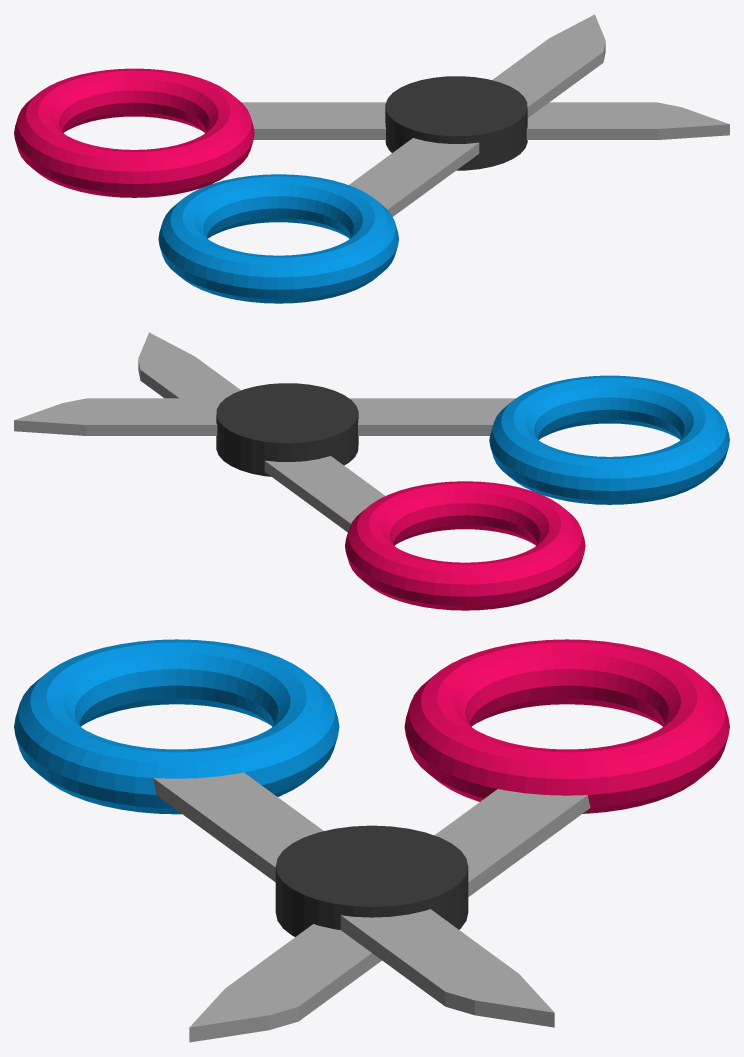
The model's file is scissors.fbx.
3 renders of one model, top to bottom at view 1: azimuth 30°, elevation 25°; view 2: azimuth 150°, elevation 25°; view 3: azimuth 270°, elevation 25°, orthographic. The views are drawn at different scales.
Parts seen in each view (by area): view 1: scissors; view 2: scissors; view 3: scissors.
Part boxes in pixels (<box>): scissors: <box>14,14,729,303</box>; scissors: <box>14,332,729,610</box>; scissors: <box>14,639,729,1042</box>.
Bounding box in the file's own units: 672 × 50 × 550.
